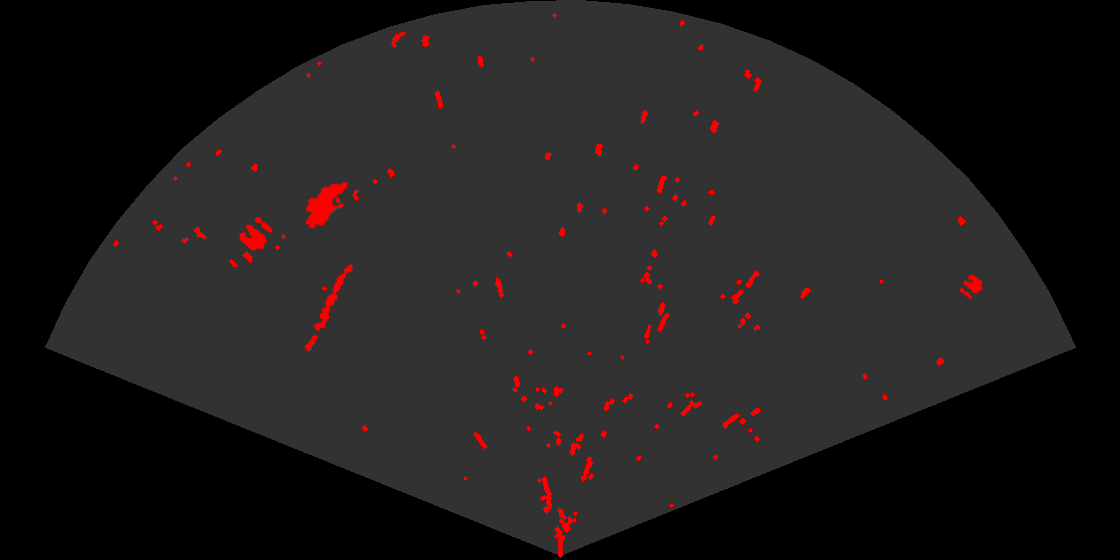AUV: (304, 180, 350, 231)
ball: (238, 215, 274, 252), (958, 273, 984, 301)
chain: (303, 262, 355, 354)
